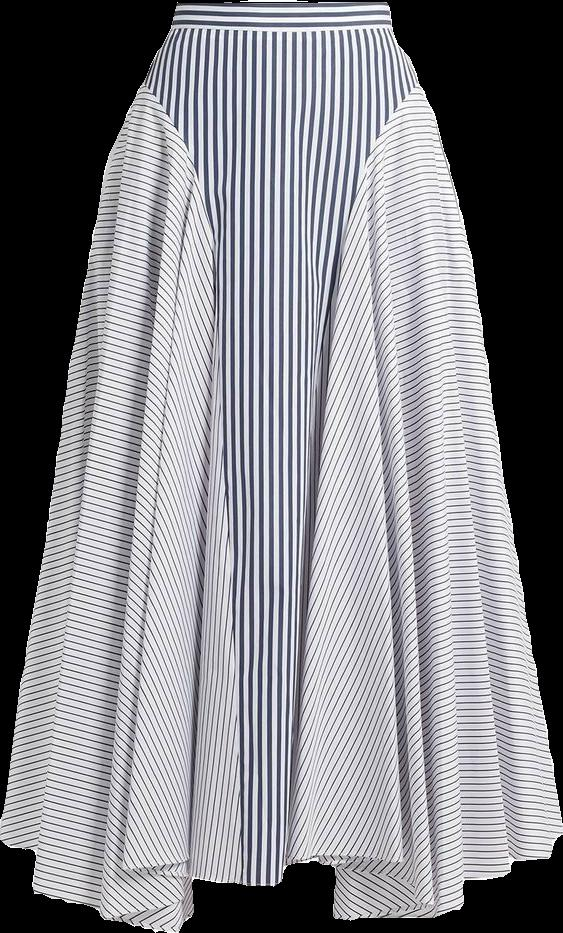Hemline: (0, 826, 562, 931)
Waistline: (165, 19, 395, 35), (176, 0, 395, 10)
